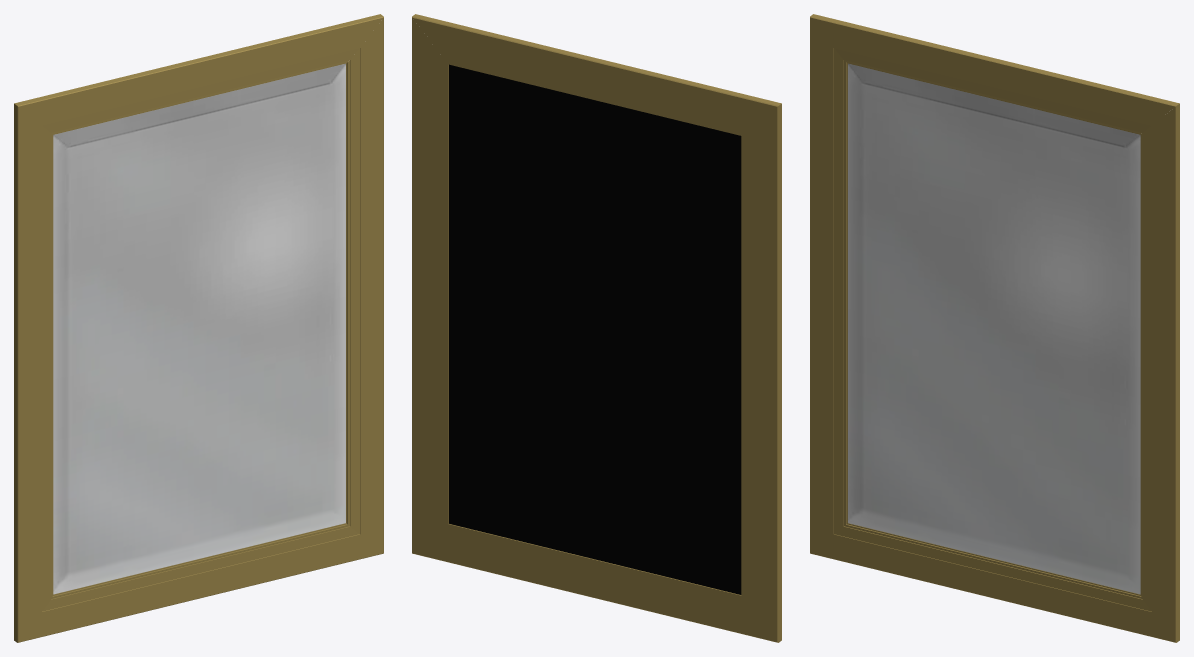
The model's file is co-rectangularmirror.glb.
3 views of the same model, side by side, from view 1: azimuth 30°, elevation 25°; view 2: azimuth 150°, elevation 25°; view 3: azimuth 330°, elevation 25° (orthographic).
Visible parts, largest first — view 1: sweethome3d_window_mirror, Cadre; view 2: Fond, Cadre; view 3: sweethome3d_window_mirror, Cadre.
Part boxes in pixels (x1=…): sweethome3d_window_mirror: x1=53, y1=63, x2=345, y2=594; Cadre: x1=14, y1=14, x2=383, y2=642; Fond: x1=449, y1=64, x2=741, y2=594; Cadre: x1=412, y1=14, x2=781, y2=642; sweethome3d_window_mirror: x1=848, y1=63, x2=1140, y2=594; Cadre: x1=810, y1=14, x2=1179, y2=642.
Bounding box in the file's own units: 0.5 × 0.7 × 0.00997.
Materials: 3 (1 with a texture image).
